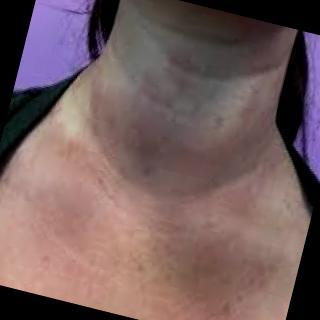urticaria: (67, 125, 162, 297)
